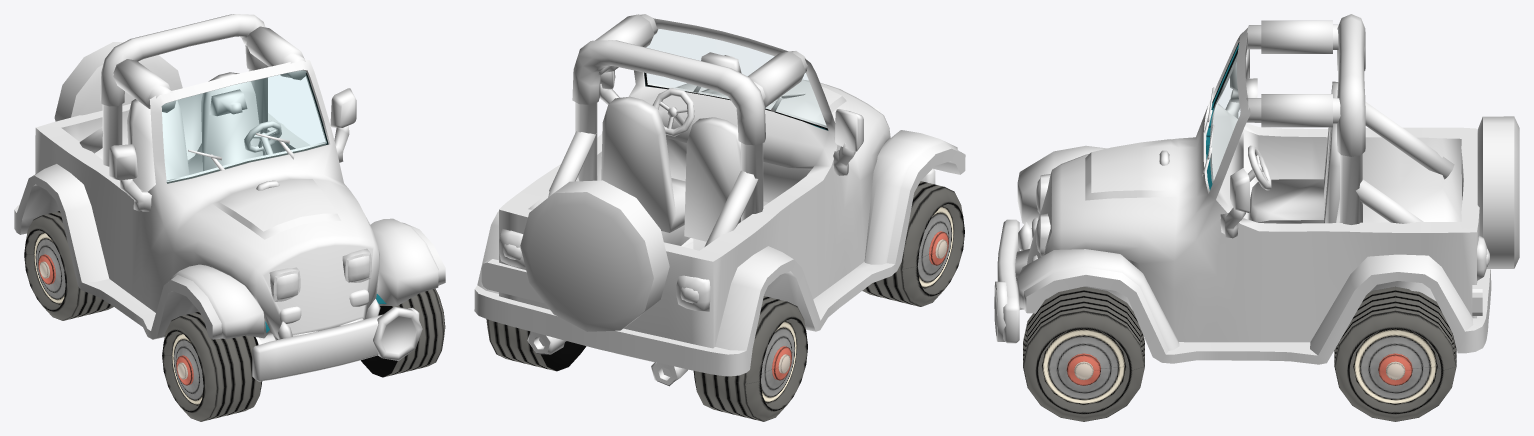
Rendered from JeepV39 Atlas.glb.
3 views of the same model, side by side, from view 1: azimuth 30°, elevation 25°; view 2: azimuth 150°, elevation 25°; view 3: azimuth 270°, elevation 25° (orthographic). The views are drawn at different scales.
Visible parts, largest first — view 1: Jeep Low Poly, Wheel_Front_Right, Wheel_Rear_Right, Wheel_Front_Left; view 2: Jeep Low Poly, Wheel_Rear_Right, Wheel_Front_Right, Wheel_Rear_Left; view 3: Jeep Low Poly, Wheel_Front_Left, Wheel_Rear_Left.
Part boxes in pixels (bbox=[...]): Jeep Low Poly: bbox=[14, 14, 445, 381]; Wheel_Front_Right: bbox=[162, 311, 262, 421]; Wheel_Rear_Right: bbox=[24, 211, 113, 320]; Wheel_Front_Left: bbox=[361, 288, 445, 377]; Jeep Low Poly: bbox=[474, 14, 965, 386]; Wheel_Rear_Right: bbox=[693, 296, 807, 421]; Wheel_Front_Right: bbox=[862, 181, 964, 306]; Wheel_Rear_Left: bbox=[486, 319, 586, 371]; Jeep Low Poly: bbox=[994, 14, 1519, 364]; Wheel_Front_Left: bbox=[1023, 287, 1144, 421]; Wheel_Rear_Left: bbox=[1334, 286, 1456, 421].
Size of the model in its own units: 2.39 by 2.59 by 3.94.
Materials: 4 (2 with a texture image).
